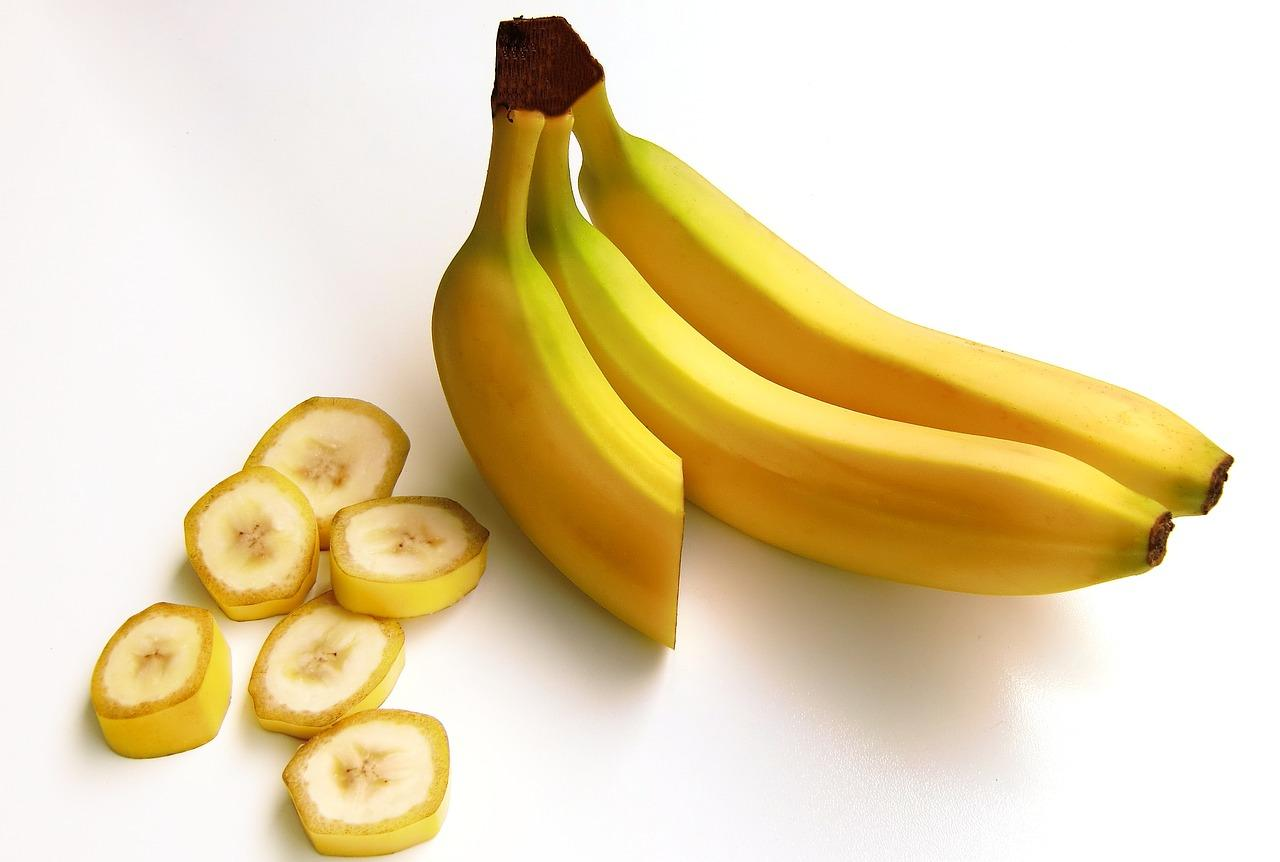banana: (453, 25, 1262, 638), (77, 357, 543, 820)
